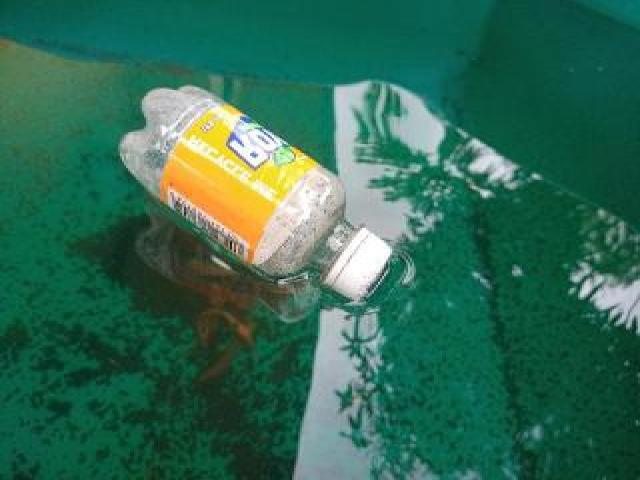Bottle: (116, 84, 396, 310)
